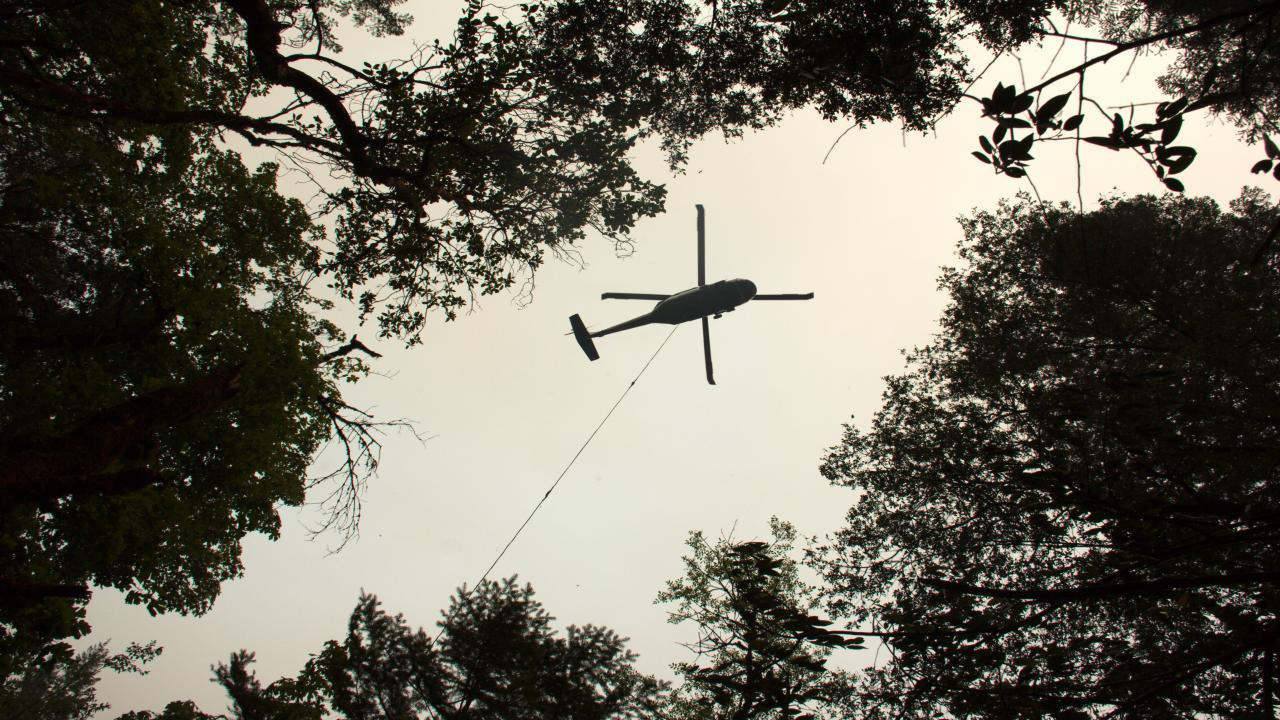Helicopter: (536, 198, 849, 406)
